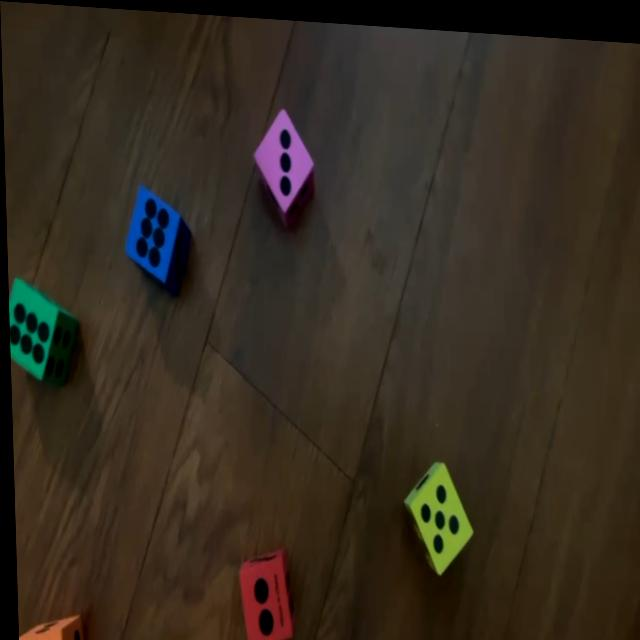cube: (6, 277, 80, 391), (122, 182, 189, 291), (235, 542, 292, 640)
